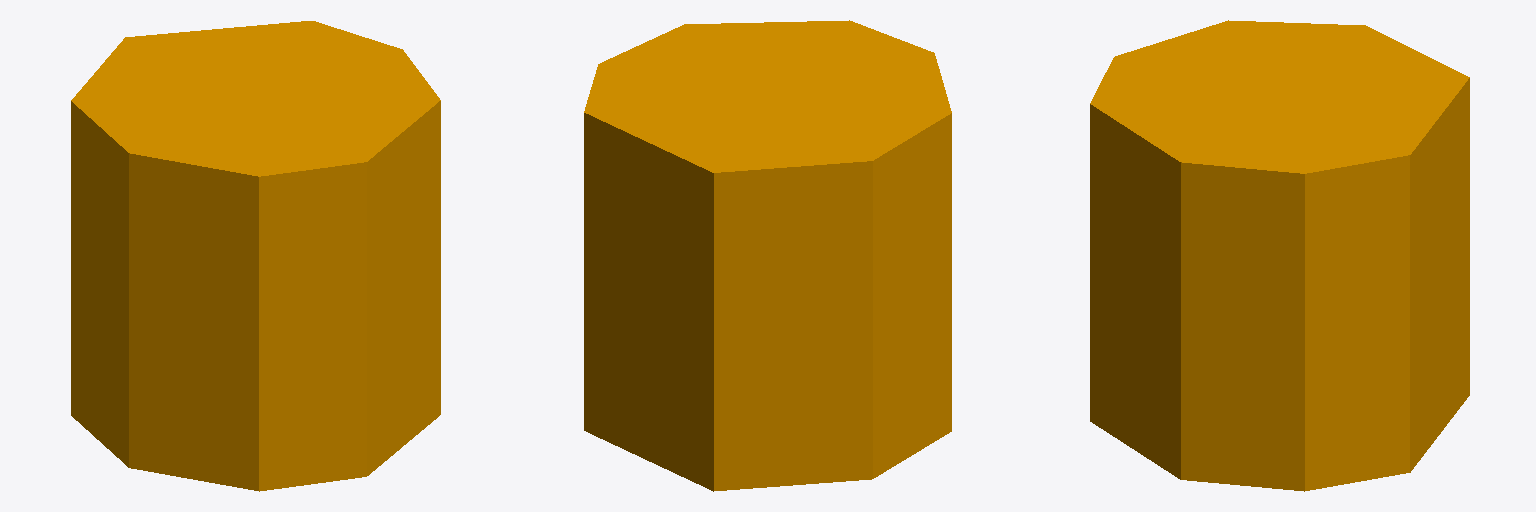
URDF robot description (object):
<?xml version="1.0"?>
<robot name="object">
  <link name="object">
    <visual>
      <origin xyz="0 0 0"/>
      <geometry>
        <mesh filename="meshes/generated/col_051.obj" scale="0.03 0.03 0.03"/>
      </geometry>
    </visual>
    <collision>
      <origin xyz="0 0 0"/>
      <geometry>
        <mesh filename="meshes/generated/col_051.obj" scale="0.03 0.03 0.03"/>
      </geometry>
    </collision>
    <inertial>
      <density value="1000.0"/>
    </inertial>
  </link>
</robot>

--- Render facts (derived) ---
Views: 3 orthographic renders of the robot side by side, from view 1: azimuth 30°, elevation 25°; view 2: azimuth 150°, elevation 25°; view 3: azimuth 270°, elevation 25°.
Robot: object — 1 links, 0 joints (none); root link object; default pose: all joints at 0.
Links seen in each view (by area): view 1: object; view 2: object; view 3: object.
Boxes of the visible links, box(x1,y1,x2,y2) form: object: box(71, 21, 440, 491); object: box(584, 20, 951, 491); object: box(1090, 20, 1469, 491).
Size in the robot's own frame: 0.0622 by 0.0651 by 0.06 metres.
Meshes: 1 distinct files referenced, 1 mesh visuals loaded (1 OBJ).
